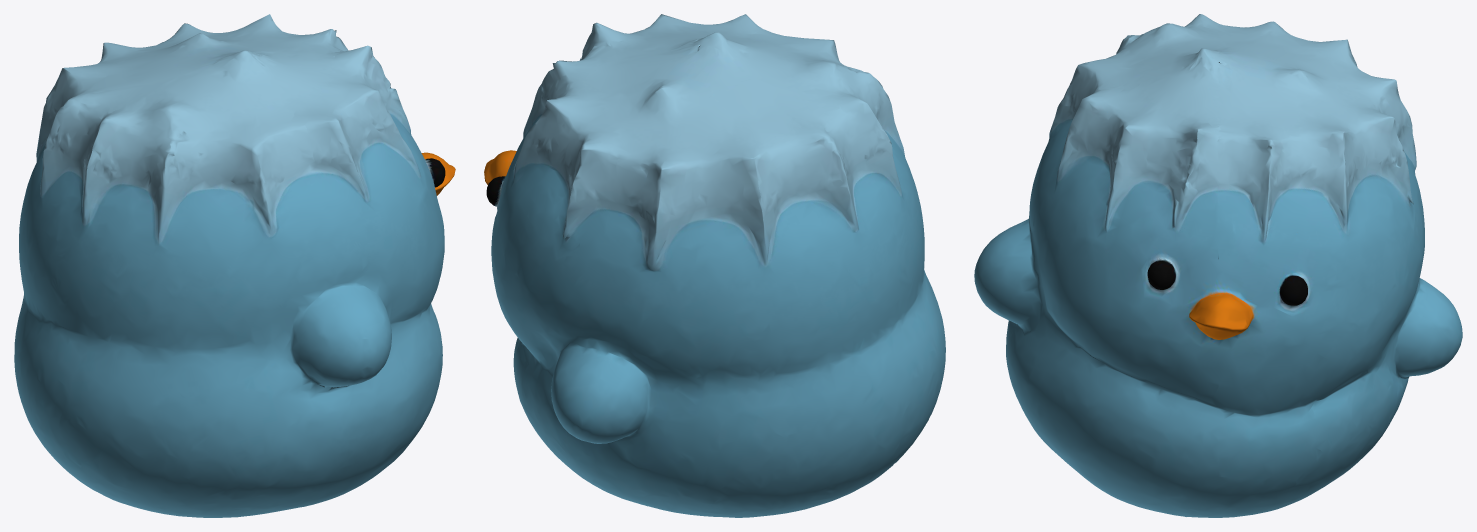
File: blue+ice+chick+3d+model.fbx
3 views of the same model, side by side, from view 1: azimuth 30°, elevation 25°; view 2: azimuth 150°, elevation 25°; view 3: azimuth 270°, elevation 25° (orthographic). The views are drawn at different scales.
Visible parts, largest first — view 1: tripo_node_05bb1e31; view 2: tripo_node_05bb1e31; view 3: tripo_node_05bb1e31.
Part boxes in pixels (left/top/right/bottom): tripo_node_05bb1e31: left=14, top=14, right=455, bottom=517; tripo_node_05bb1e31: left=484, top=14, right=945, bottom=517; tripo_node_05bb1e31: left=974, top=14, right=1462, bottom=517.
Bounding box in the file's own units: 0.9795 × 0.9945 × 1.
1 material, 1 textured.
